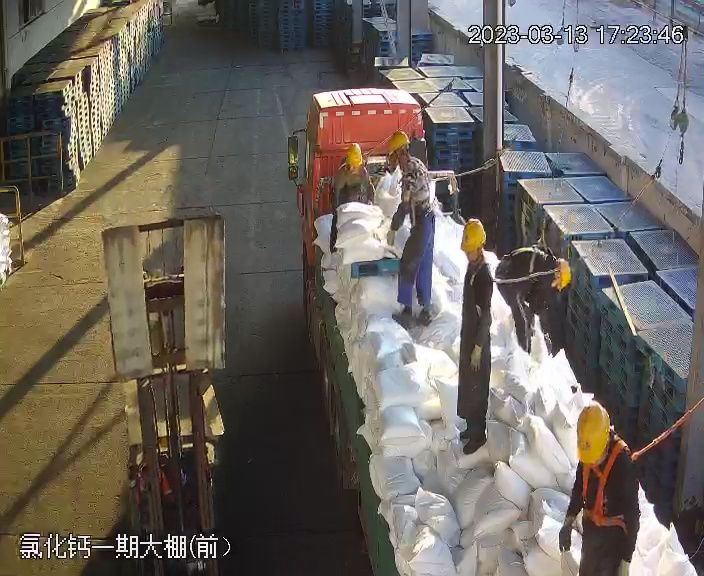belt: (576, 457, 632, 527), (402, 154, 448, 196), (528, 234, 553, 278)
head: (572, 407, 638, 487), (457, 217, 495, 304), (515, 241, 572, 294), (384, 132, 431, 182), (334, 143, 373, 183)
helmet: (572, 407, 612, 463), (459, 218, 487, 253), (386, 130, 411, 155), (556, 254, 572, 293), (344, 143, 364, 167)
people: (566, 412, 642, 574), (488, 237, 576, 362), (383, 131, 439, 322), (457, 216, 495, 455)
truck: (281, 84, 704, 576)
